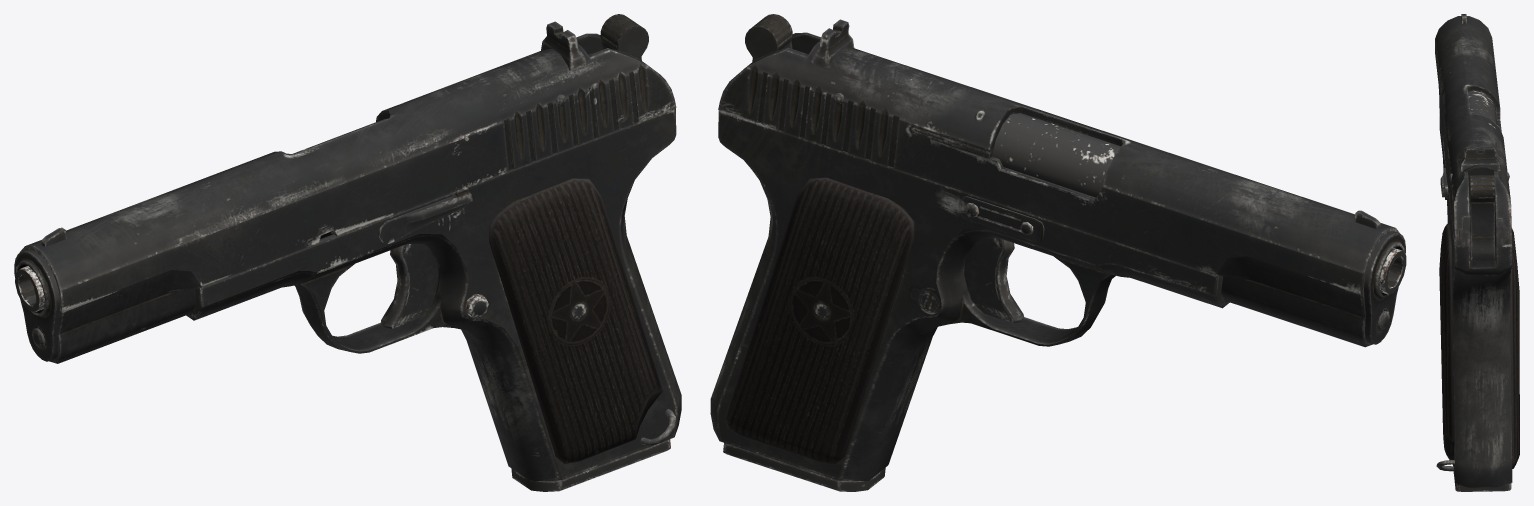
The model's file is meme3 gun.fbx.
3 views of the same model, side by side, from view 1: azimuth 30°, elevation 25°; view 2: azimuth 150°, elevation 25°; view 3: azimuth 270°, elevation 25° (orthographic). The views are drawn at different scales.
Visible parts, largest first — view 1: pistol_UV_0; view 2: pistol_UV_0; view 3: pistol_UV_0.
Boxes of the visible parts, <box> form: pistol_UV_0: <box>14,14,681,491</box>; pistol_UV_0: <box>710,14,1406,491</box>; pistol_UV_0: <box>1435,14,1519,491</box>.
Bounding box in the file's own units: 92.87 × 60.99 × 14.3.
Materials: 1 (1 with a texture image).
